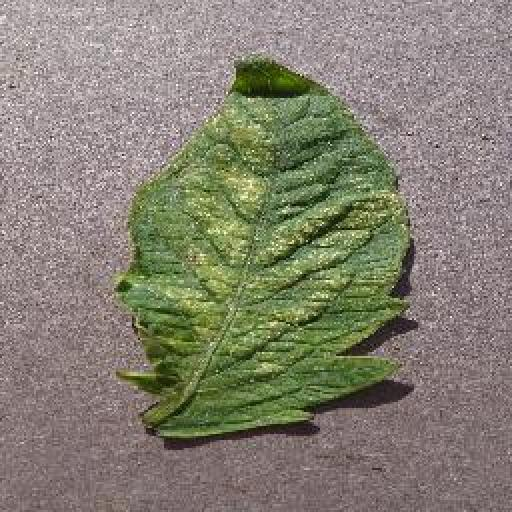Spider Mites: (119, 59, 417, 445)
